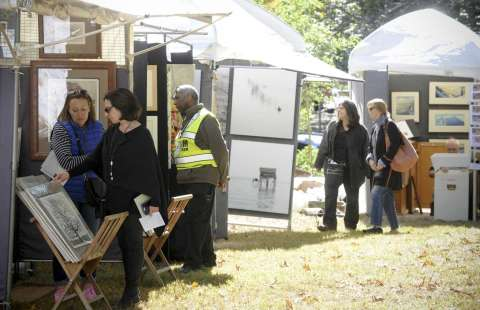Person: (52, 88, 167, 310), (49, 88, 108, 303), (173, 84, 230, 276), (313, 99, 369, 232), (362, 97, 403, 234)
